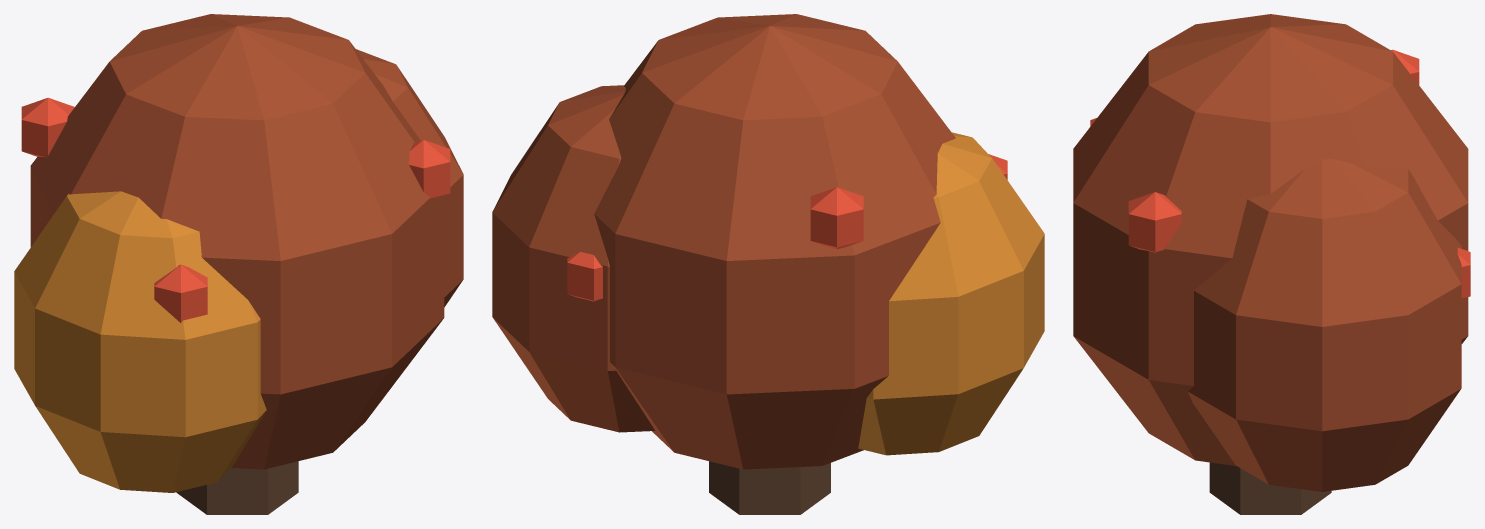
Rendered from bush_autumn.glb.
The picture shows the model from 3 angles, left to right: view 1: azimuth 30°, elevation 25°; view 2: azimuth 150°, elevation 25°; view 3: azimuth 270°, elevation 25°; orthographic projection.
Parts seen in each view (by area): view 1: Bush_round_foliage, Bush_round_foliage.001, Bush_round_foliage.002, Bush_woody_stem, Bush_red_berry, Bush_red_berry.003, Bush_red_berry.001; view 2: Bush_round_foliage, Bush_round_foliage.001, Bush_round_foliage.002, Bush_woody_stem, Bush_red_berry.003, Bush_red_berry.002; view 3: Bush_round_foliage, Bush_round_foliage.002, Bush_woody_stem, Bush_red_berry.001, Bush_red_berry.002.
Part boxes in pixels (x1,y1,x2,y2): Bush_round_foliage: (30,14,444,469); Bush_round_foliage.001: (14,191,266,492); Bush_round_foliage.002: (356,49,463,307); Bush_woody_stem: (176,461,298,514); Bush_red_berry: (154,264,207,322); Bush_red_berry.003: (21,97,74,157); Bush_red_berry.001: (409,139,450,197); Bush_round_foliage: (594,14,955,469); Bush_round_foliage.001: (858,132,1044,455); Bush_round_foliage.002: (492,85,655,432); Bush_woody_stem: (709,461,830,514); Bush_red_berry.003: (810,187,863,249); Bush_red_berry.002: (567,252,602,301); Bush_round_foliage: (1073,14,1468,465); Bush_round_foliage.002: (1188,158,1461,491); Bush_woody_stem: (1209,462,1331,514); Bush_red_berry.001: (1128,192,1181,252); Bush_red_berry.002: (1457,247,1470,299).
Bounding box in the file's own units: 0.8275 × 0.8 × 0.6188.
